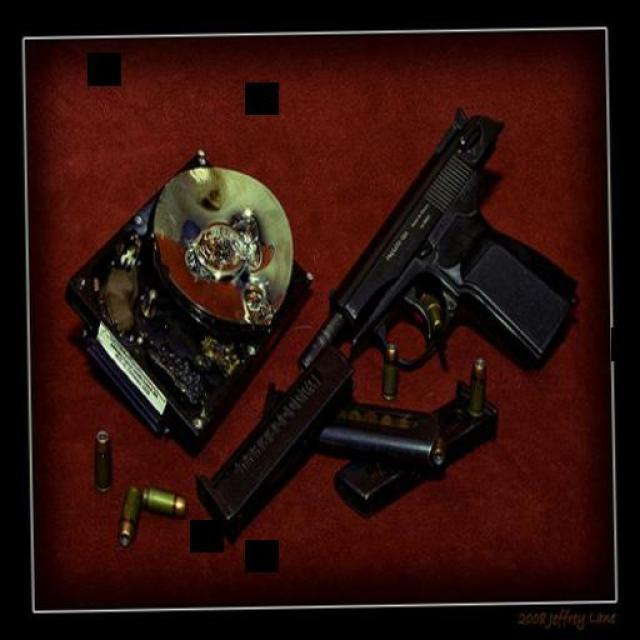gun: (289, 104, 580, 388)
